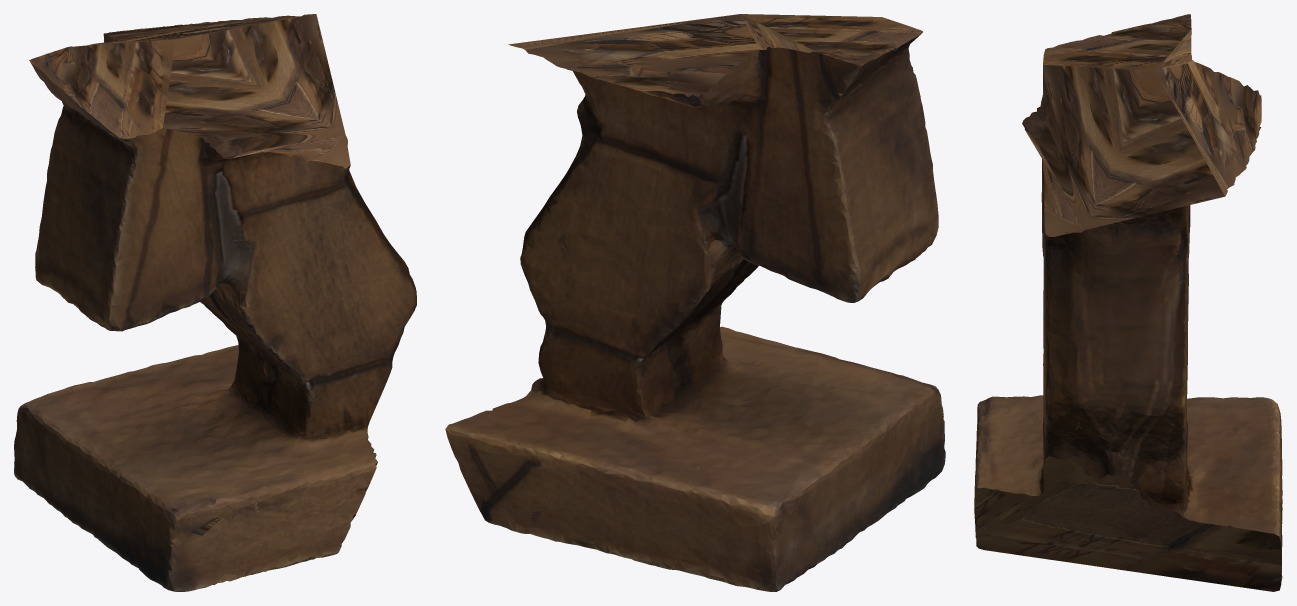
3 views of the same model, side by side, from view 1: azimuth 30°, elevation 25°; view 2: azimuth 150°, elevation 25°; view 3: azimuth 270°, elevation 25° (orthographic). The views are drawn at different scales.
Visible parts, largest first — view 1: KLA-Or-10000_cell.009_KLA-Or-10000_cell.110; view 2: KLA-Or-10000_cell.009_KLA-Or-10000_cell.110; view 3: KLA-Or-10000_cell.009_KLA-Or-10000_cell.110.
Part boxes in pixels (box(x1,y1,x2,y2)): KLA-Or-10000_cell.009_KLA-Or-10000_cell.110: box(14, 14, 416, 591); KLA-Or-10000_cell.009_KLA-Or-10000_cell.110: box(445, 14, 945, 591); KLA-Or-10000_cell.009_KLA-Or-10000_cell.110: box(974, 14, 1282, 591).
Bounding box in the file's own units: 0.5126 × 0.6822 × 0.4262.
